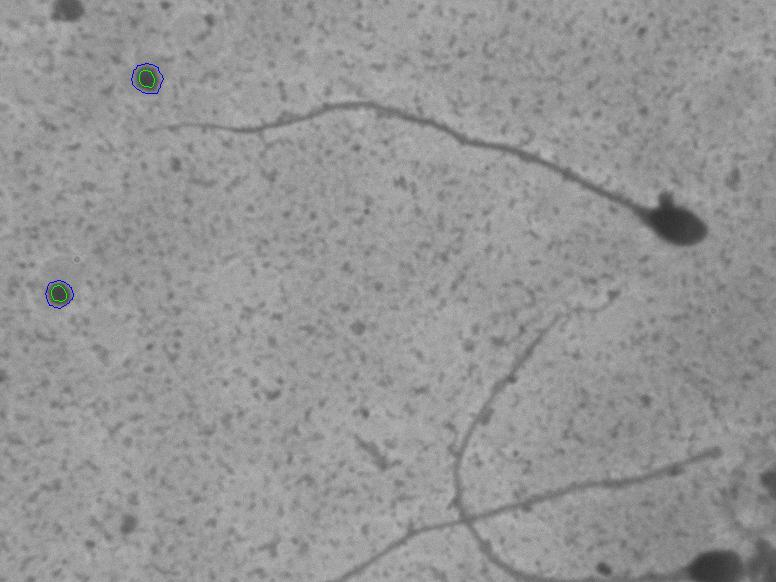Abnormal: (161, 63, 723, 260)
